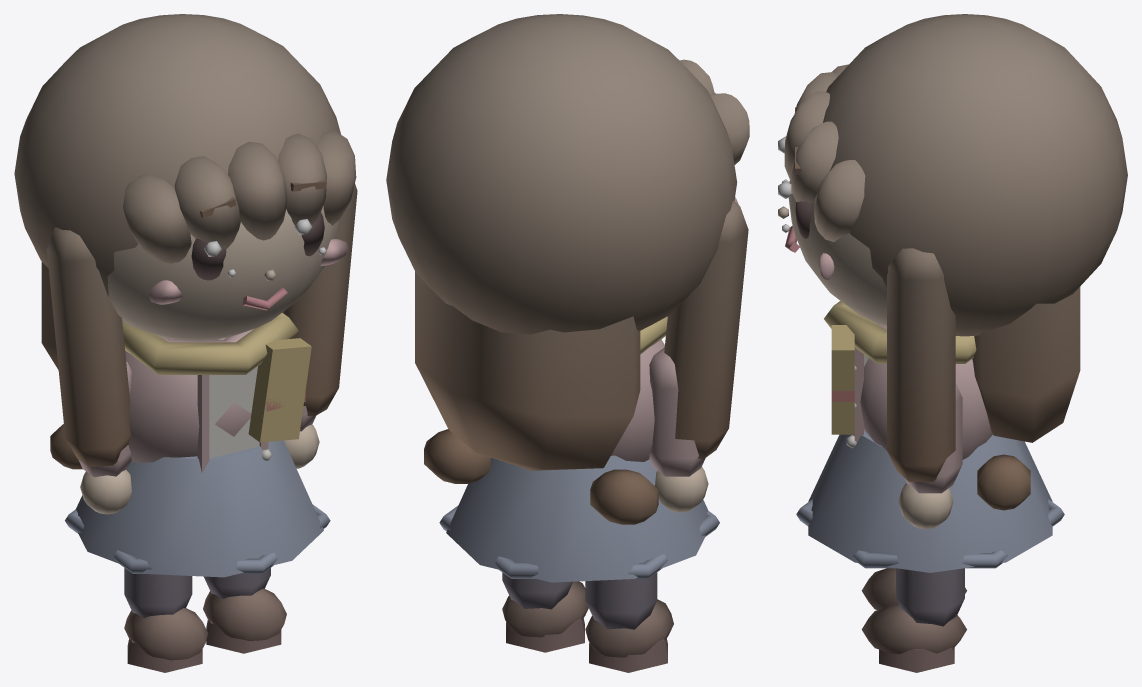
Rendered from player.glb.
3 renders of one model, left to right at view 1: azimuth 30°, elevation 25°; view 2: azimuth 150°, elevation 25°; view 3: azimuth 270°, elevation 25°, orthographic. The views are drawn at different scales.
Parts seen in each view (by area): view 1: hair, torso_geo, head_geo, legR_geo, legL_geo, armR_geo, armL_geo; view 2: hair, torso_geo, legR_geo, armR_geo, legL_geo; view 3: hair, torso_geo, legL_geo, head_geo, armL_geo, legR_geo.
Part boxes in pixels (bbox=[...]): hair: bbox=[14, 14, 357, 469]; torso_geo: bbox=[65, 312, 330, 577]; head_geo: bbox=[107, 180, 348, 340]; legR_geo: bbox=[124, 568, 208, 672]; legL_geo: bbox=[203, 568, 286, 653]; armR_geo: bbox=[78, 361, 131, 514]; armL_geo: bbox=[284, 406, 319, 468]; hair: bbox=[386, 14, 749, 524]; torso_geo: bbox=[439, 316, 719, 582]; legR_geo: bbox=[585, 572, 673, 672]; armR_geo: bbox=[649, 347, 708, 512]; legL_geo: bbox=[502, 572, 588, 652]; hair: bbox=[784, 14, 1127, 510]; torso_geo: bbox=[796, 301, 1064, 572]; legL_geo: bbox=[861, 568, 966, 672]; head_geo: bbox=[778, 107, 886, 325]; armL_geo: bbox=[898, 383, 962, 529]; legR_geo: bbox=[861, 568, 966, 609].
Bounding box in the file's own units: 0.7462 × 1.45 × 0.762.
